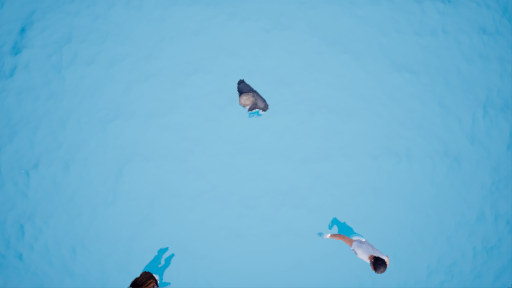person: (307, 212, 397, 275), (218, 69, 278, 122), (123, 244, 183, 288)
